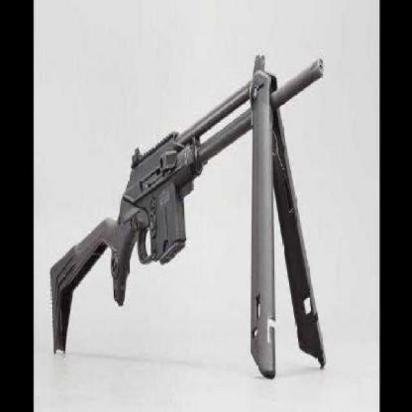Gun: (58, 60, 322, 366)
